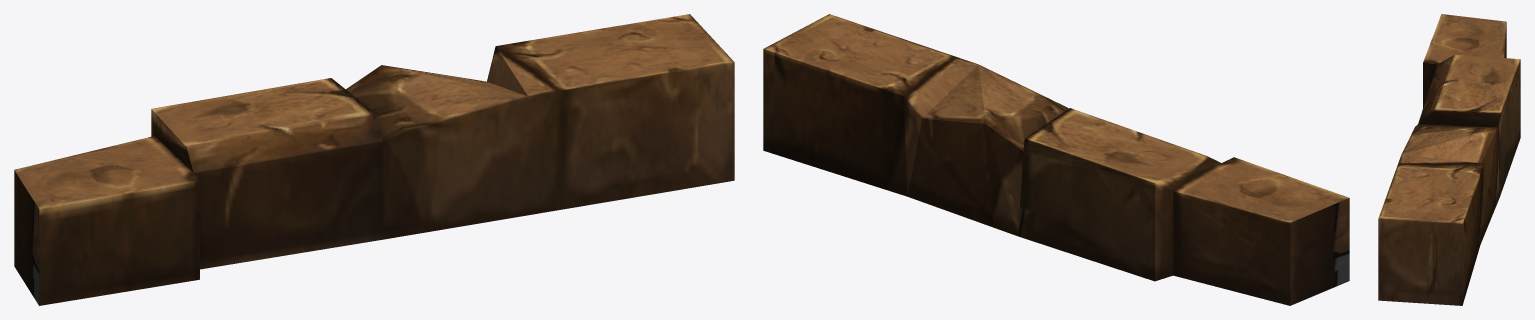
Rendered from ShiZhuan05.FBX.
3 renders of one model, left to right at view 1: azimuth 30°, elevation 25°; view 2: azimuth 150°, elevation 25°; view 3: azimuth 270°, elevation 25°, orthographic. The views are drawn at different scales.
Visible parts, largest first — view 1: ShiZhuan05; view 2: ShiZhuan05; view 3: ShiZhuan05.
Boxes of the visible parts, x1,y1,x2,y2 form: ShiZhuan05: (14,14,734,305); ShiZhuan05: (763,14,1349,305); ShiZhuan05: (1378,14,1520,305).
Size of the model in its own units: 480 by 82.25 by 128.
